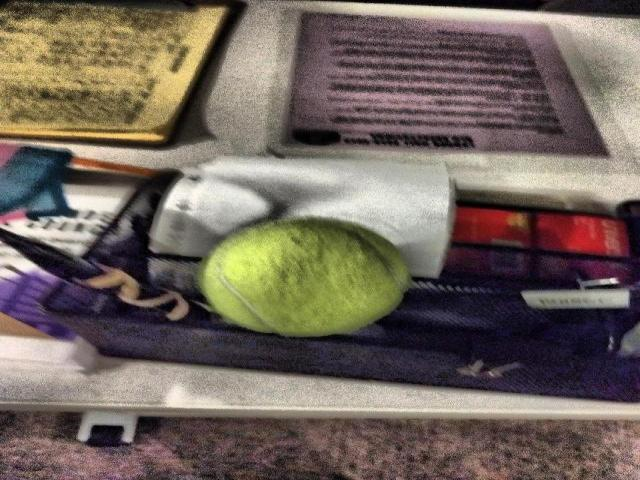tennis-ball: (198, 215, 409, 337)
